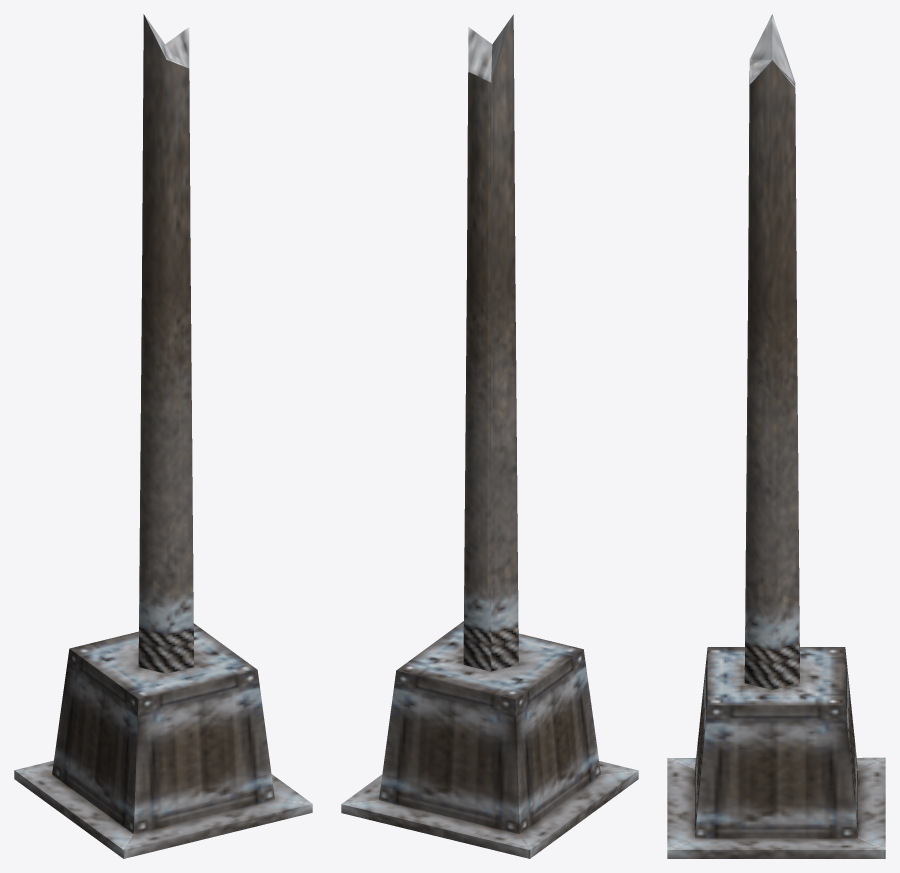
The picture shows the model from 3 angles, left to right: view 1: azimuth 30°, elevation 25°; view 2: azimuth 150°, elevation 25°; view 3: azimuth 270°, elevation 25°; orthographic projection.
Parts seen in each view (by area): view 1: wj38; view 2: wj38; view 3: wj38.
Part boxes in pixels (x1,y1,x2,y2): wj38: (14, 14, 312, 858); wj38: (341, 14, 638, 858); wj38: (667, 14, 885, 858).
Bounding box in the file's own units: 235 × 936 × 235.
1 material, 1 textured.
